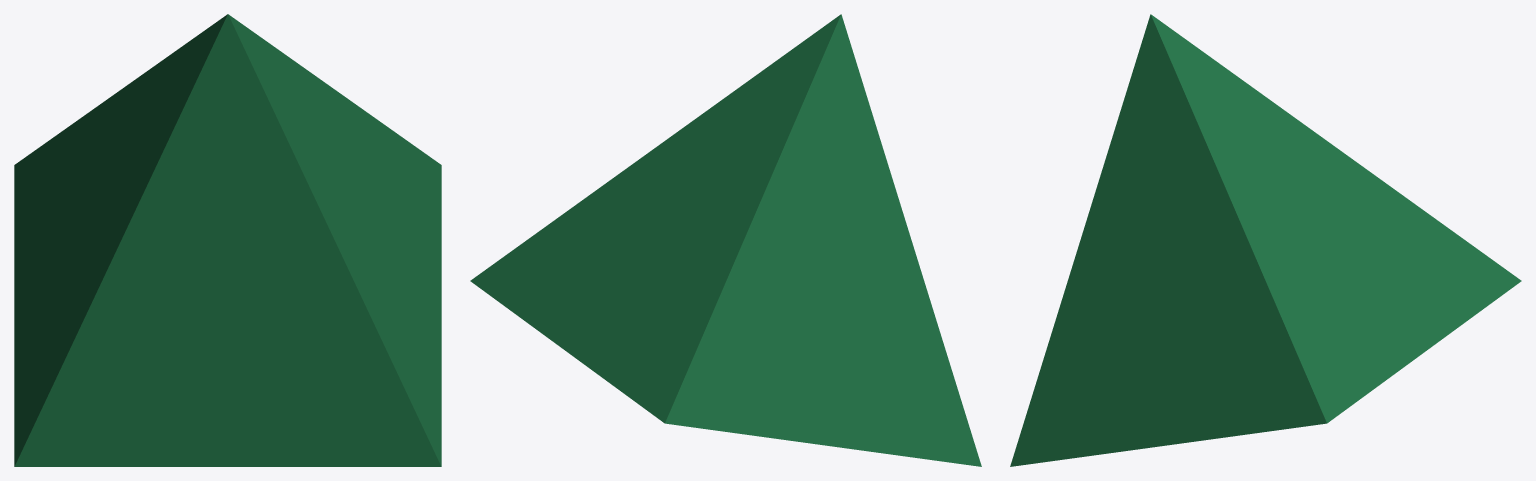
3 renders of one model, left to right at view 1: azimuth 30°, elevation 25°; view 2: azimuth 150°, elevation 25°; view 3: azimuth 270°, elevation 25°, orthographic. The views are drawn at different scales.
Parts seen in each view (by area): view 1: Pyramid; view 2: Pyramid; view 3: Pyramid.
Part boxes in pixels (bbox=[...]): Pyramid: bbox=[14, 14, 441, 466]; Pyramid: bbox=[470, 14, 981, 466]; Pyramid: bbox=[1010, 14, 1521, 466].
Bounding box in the file's own units: 2.67 × 2.22 × 2.63.
